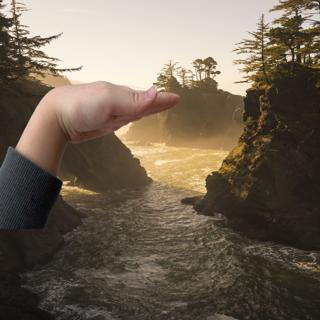Wait: (18, 74, 187, 157)
